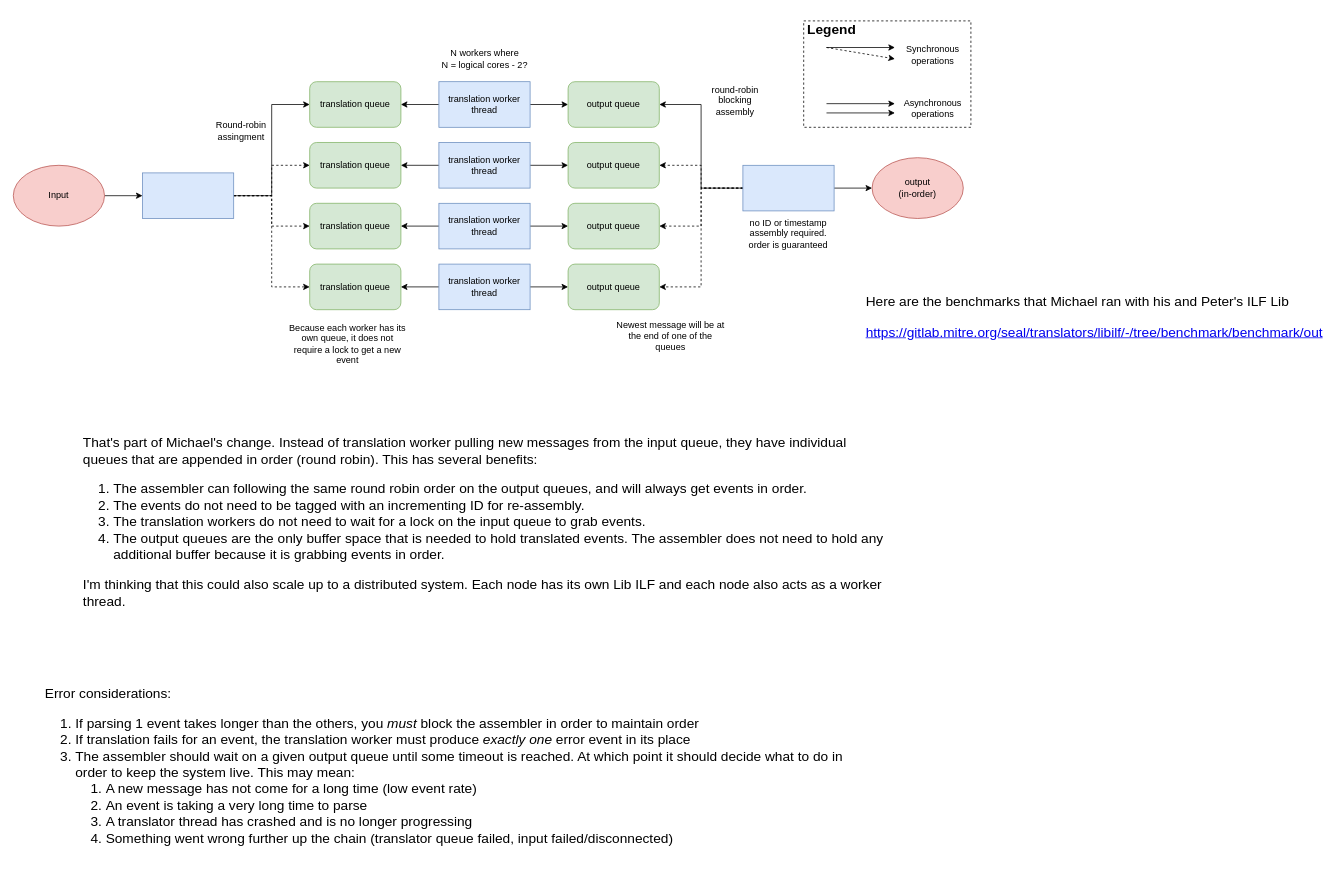
This 1336x873 diagram has some shape labels left out. The shapes that lost their labels are listed below. From the top down, each one's centre as x and y in pixels, then its label:
At [188,195]: "Distributor thread".
At [788,188]: "Assembler thread".
